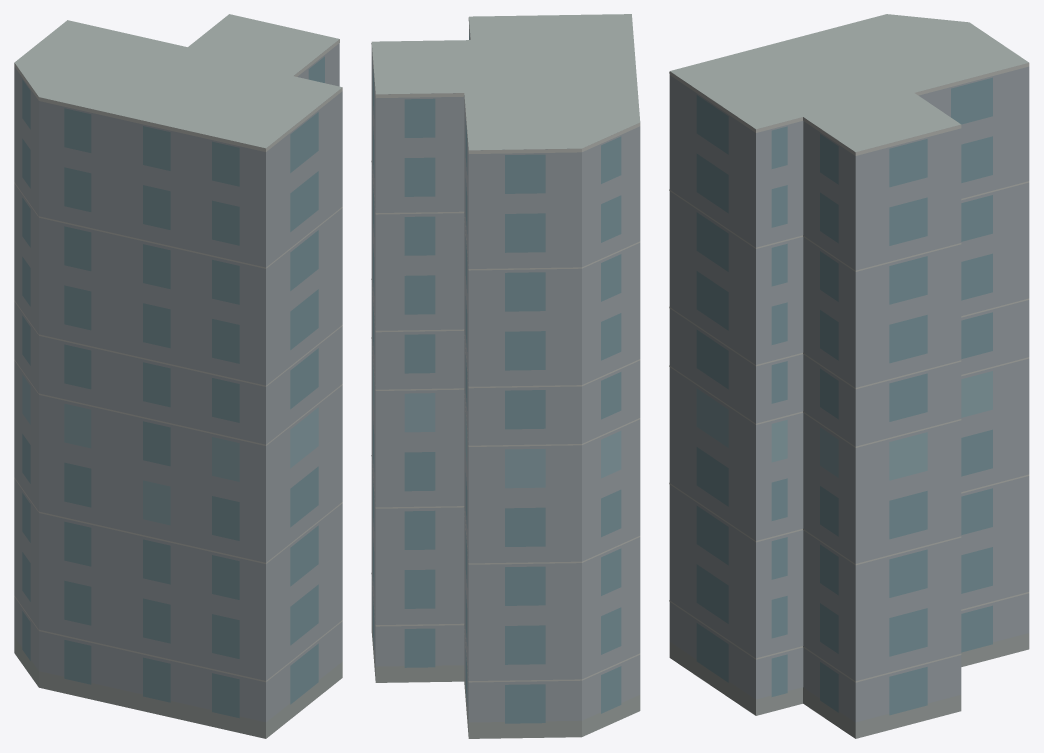
Rendered from survey-upis-32875562.glb.
3 views of the same model, side by side, from view 1: azimuth 30°, elevation 25°; view 2: azimuth 150°, elevation 25°; view 3: azimuth 270°, elevation 25° (orthographic).
Visible parts, largest first — view 1: survey-upis-32875562.tmp; view 2: survey-upis-32875562.tmp; view 3: survey-upis-32875562.tmp.
Part boxes in pixels (box(x1,y1,x2,y2)): survey-upis-32875562.tmp: box(14, 14, 342, 738); survey-upis-32875562.tmp: box(371, 14, 640, 738); survey-upis-32875562.tmp: box(669, 14, 1029, 738).
Size of the model in its own units: 18.92 by 37.4 by 20.81.
